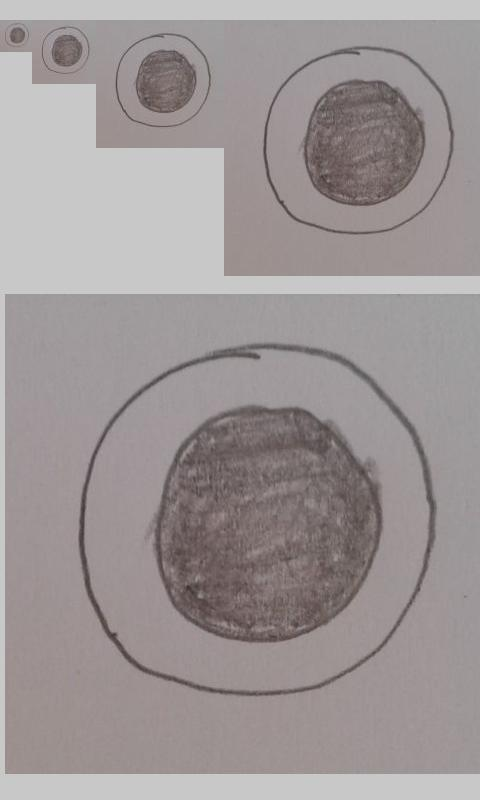radio_button: (74, 340, 441, 700), (262, 44, 454, 235), (114, 32, 212, 128), (41, 25, 90, 75), (3, 22, 30, 48)
